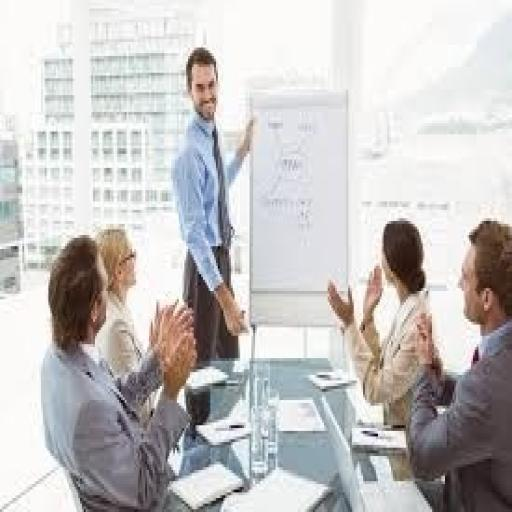clapping: (39, 232, 199, 509), (404, 216, 510, 510), (324, 215, 432, 428)
